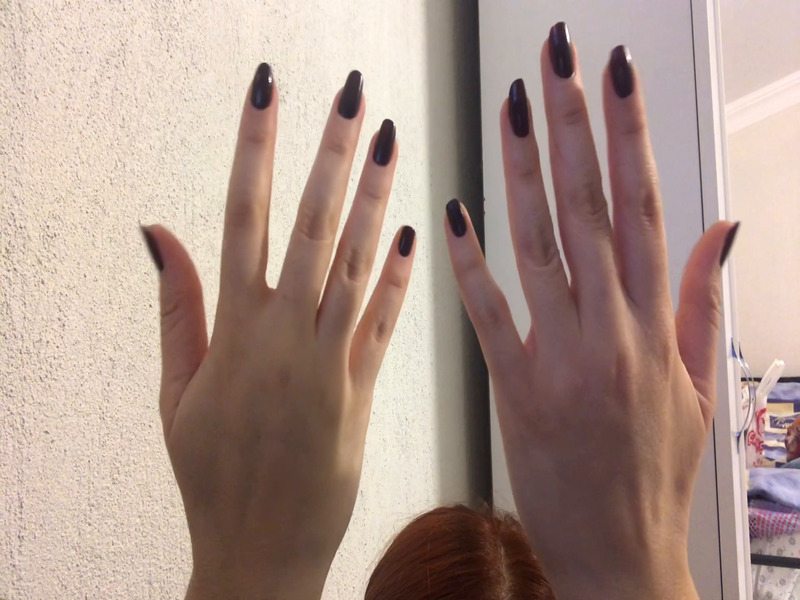hand: (443, 14, 748, 581), (137, 48, 423, 541)
